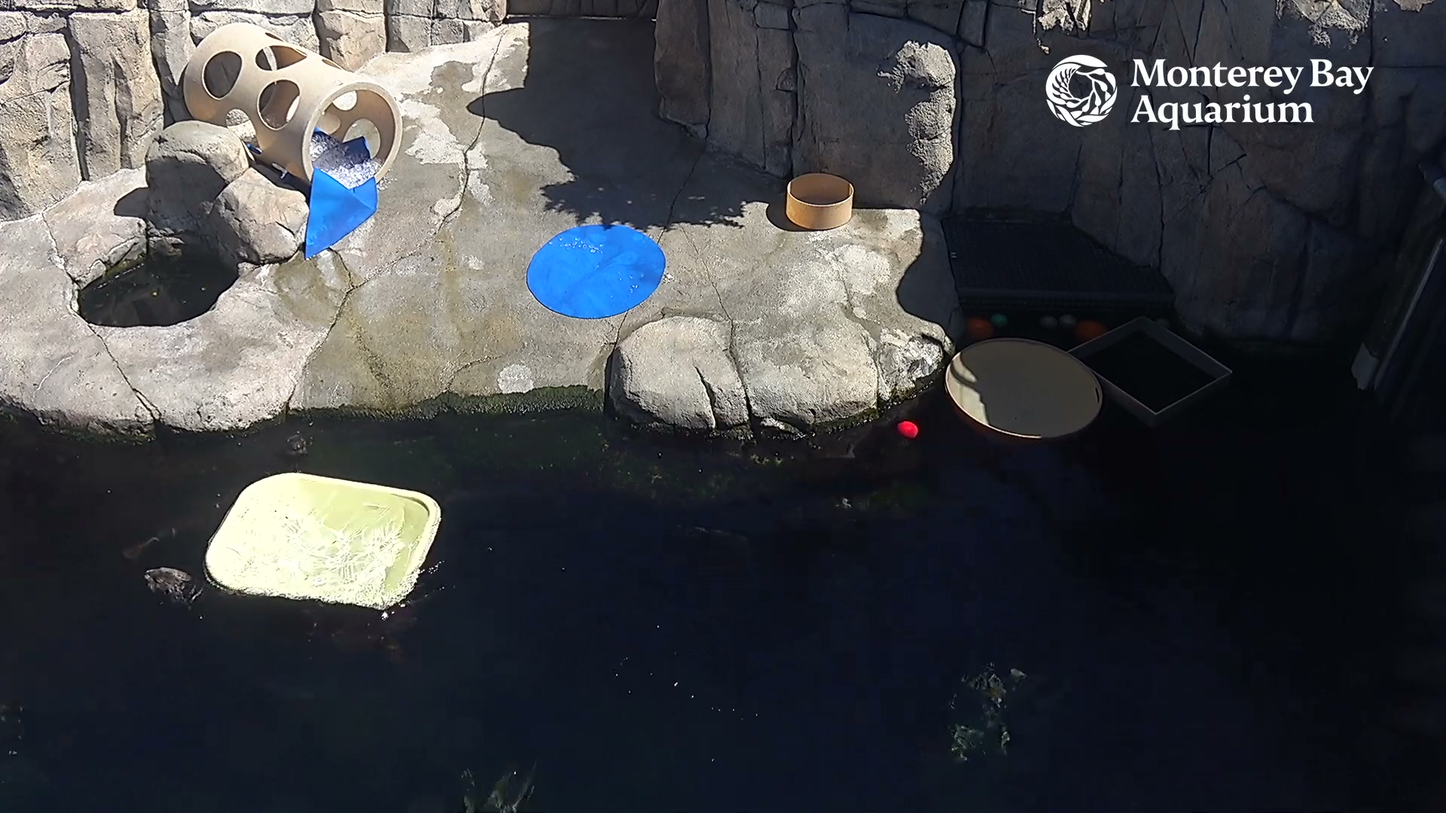Southern Sea Otter: (112, 559, 509, 658)
